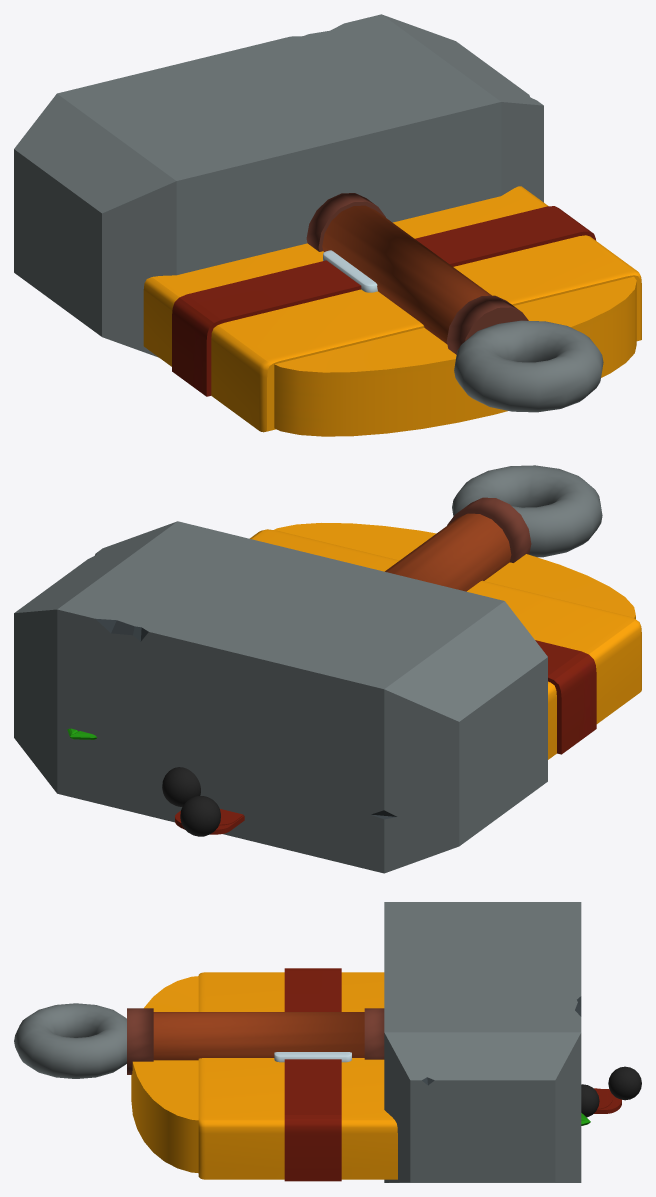
File: Items.fbx
3 views of the same model, one above another, from view 1: azimuth 30°, elevation 25°; view 2: azimuth 150°, elevation 25°; view 3: azimuth 270°, elevation 25° (orthographic). The views are drawn at different scales.
Visible parts, largest first — view 1: Repair, Heal; view 2: Repair, Heal, Ammo; view 3: Repair, Heal, Ammo.
Part boxes in pixels (x1=…): Repair: x1=14, y1=14, x2=603, y2=412; Heal: x1=143, y1=186, x2=641, y2=436; Repair: x1=14, y1=465, x2=602, y2=873; Heal: x1=67, y1=523, x2=641, y2=834; Ammo: x1=162, y1=767, x2=243, y2=836; Repair: x1=14, y1=902, x2=581, y2=1182; Heal: x1=131, y1=968, x2=621, y2=1181; Ammo: x1=581, y1=1066, x2=641, y2=1117.
Bounding box in the file's own units: 35.1 × 13.88 × 52.47.
